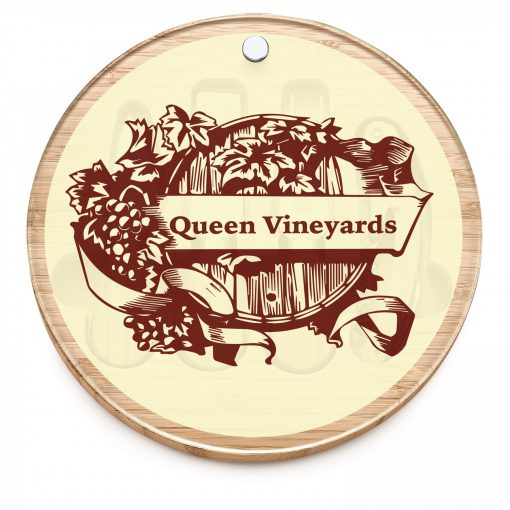cheese: (42, 34, 454, 422)
